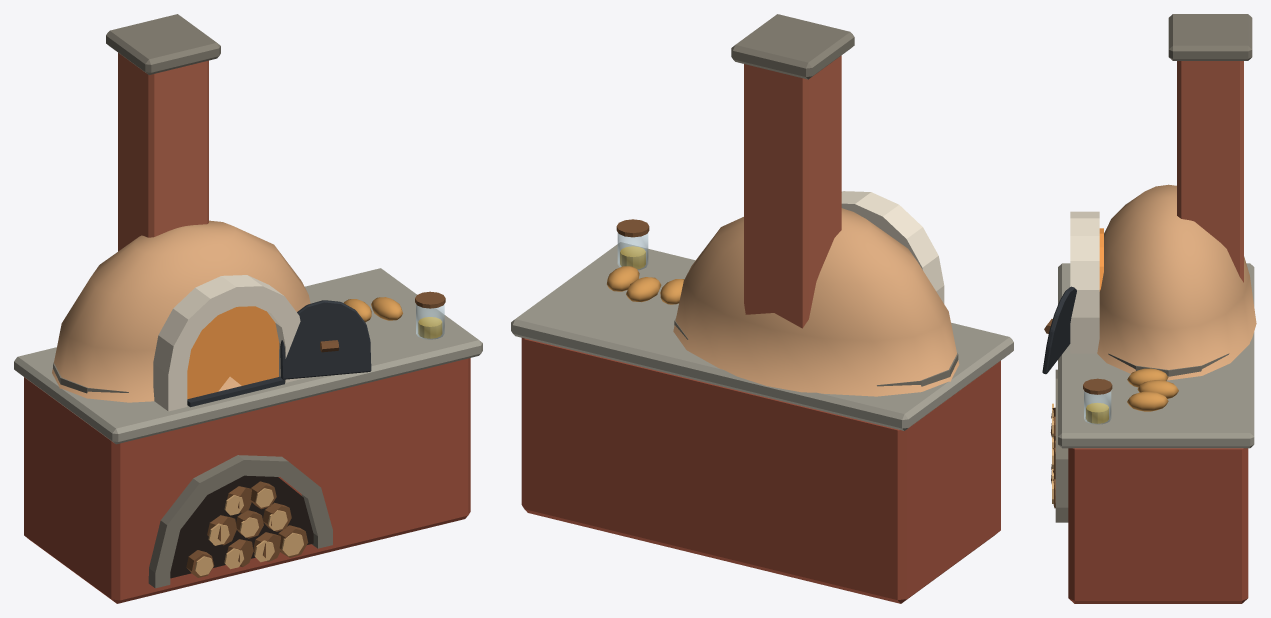
File: oven.glb
The picture shows the model from 3 angles, left to right: view 1: azimuth 30°, elevation 25°; view 2: azimuth 150°, elevation 25°; view 3: azimuth 270°, elevation 25°; orthographic projection. The views are drawn at different scales.
Parts seen in each view (by area): view 1: oven; view 2: oven; view 3: oven.
Boxes of the visible parts, x1,y1,x2,y2 form: oven: (14, 14, 482, 603); oven: (511, 14, 1013, 603); oven: (1042, 14, 1256, 603).
Bounding box in the file's own units: 1.96 × 2.46 × 1.02.
